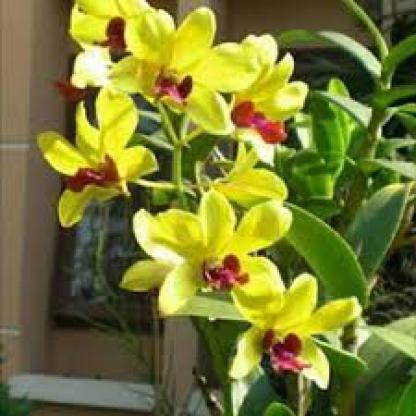ANGGREK: (42, 7, 371, 388)
